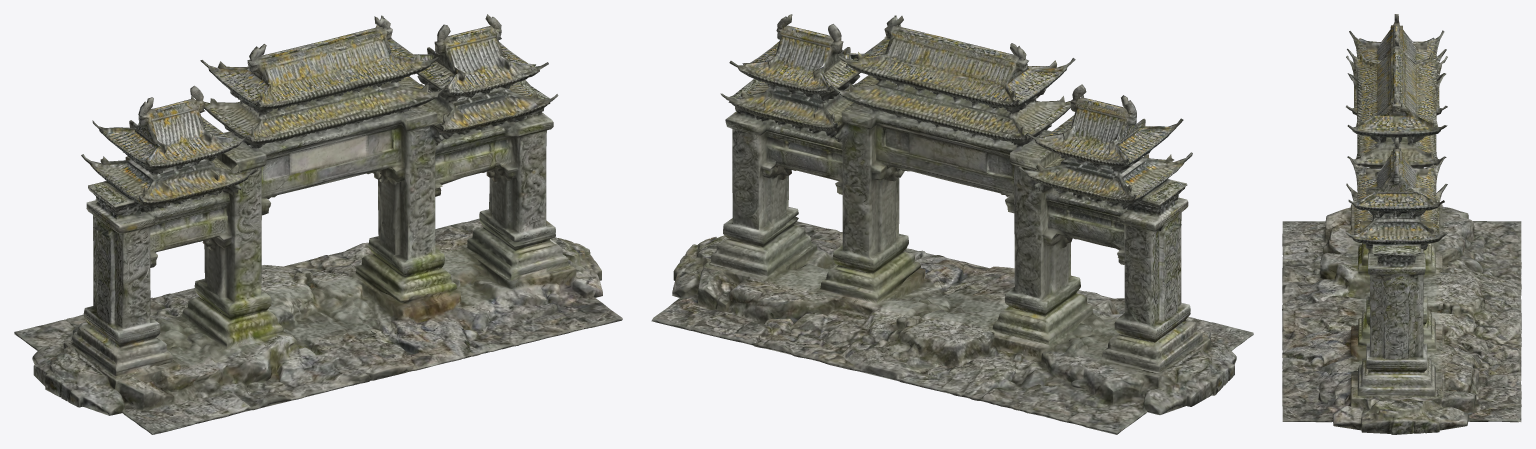
The model's file is sky_gate.glb.
3 renders of one model, left to right at view 1: azimuth 30°, elevation 25°; view 2: azimuth 150°, elevation 25°; view 3: azimuth 270°, elevation 25°, orthographic. The views are drawn at different scales.
Parts seen in each view (by area): view 1: clean; view 2: clean; view 3: clean.
Boxes of the visible parts, x1,y1,x2,y2 form: clean: (14,14,622,434); clean: (651,14,1253,434); clean: (1282,14,1521,434).
Bounding box in the file's own units: 281 × 150 × 125.
1 material, 1 textured.
